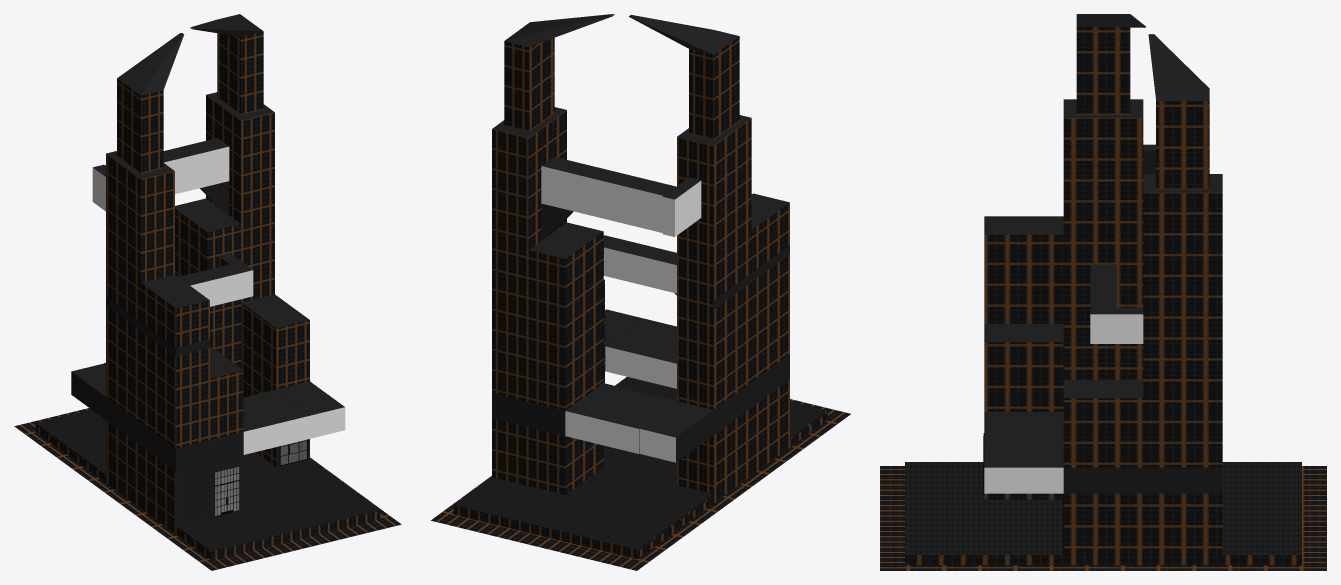
File: skyscrapper.glb
3 views of the same model, side by side, from view 1: azimuth 30°, elevation 25°; view 2: azimuth 150°, elevation 25°; view 3: azimuth 270°, elevation 25° (orthographic). The views are drawn at different scales.
Visible parts, largest first — view 1: Plane, left_dleaf001, Portella_Door01; view 2: Plane; view 3: Plane.
Part boxes in pixels (x1=…): Plane: x1=14, y1=14, x2=401, y2=570; left_dleaf001: x1=214, y1=466, x2=239, y2=516; Portella_Door01: x1=279, y1=439, x2=307, y2=466; Plane: x1=431, y1=14, x2=850, y2=570; Plane: x1=880, y1=14, x2=1326, y2=570.
Size of the model in its own units: 9.66 by 20.9 by 17.39.
Materials: 12 (4 with a texture image).
